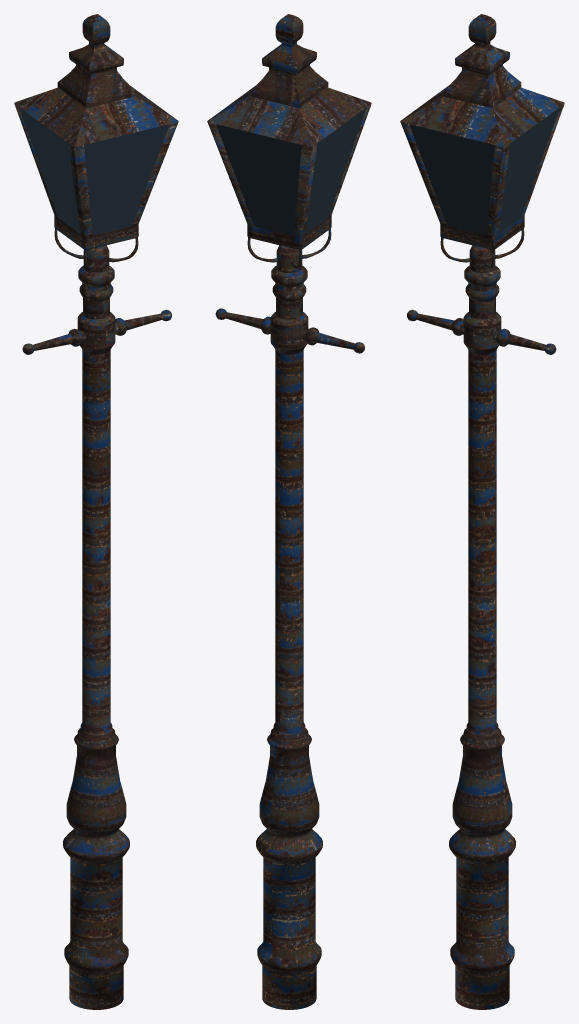
Rendered from lamp.obj.
3 views of the same model, side by side, from view 1: azimuth 30°, elevation 25°; view 2: azimuth 150°, elevation 25°; view 3: azimuth 330°, elevation 25° (orthographic).
Visible parts, largest first — view 1: Old_English_Street_Lamp_Cylinder.006; view 2: Old_English_Street_Lamp_Cylinder.006; view 3: Old_English_Street_Lamp_Cylinder.006.
Part boxes in pixels (left/top/right/bottom): Old_English_Street_Lamp_Cylinder.006: left=14, top=14, right=178, bottom=1009; Old_English_Street_Lamp_Cylinder.006: left=207, top=14, right=371, bottom=1009; Old_English_Street_Lamp_Cylinder.006: left=400, top=14, right=564, bottom=1009.
Size of the model in its own units: 1.41 by 9.05 by 1.02.
Materials: 1 (1 with a texture image).
